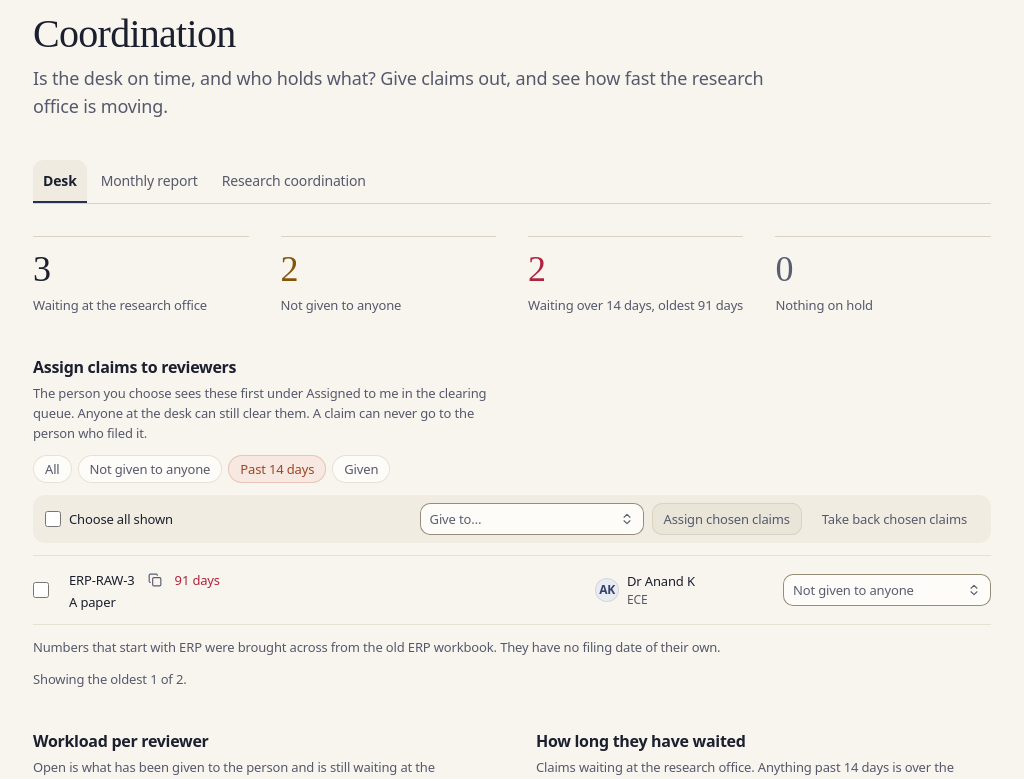
Test: coordination, desk › opens the list a figure pointed at, and names the count on the button
Expected: the text "ERP-RAW-3" is shown, [69,571,135,589]
Expected: the button "Assign chosen claims" is disabled, [652,503,802,535]
Click the checkbox named "Choose ERP-RAW-3". click: (41, 590)
box: [33,582,49,598]
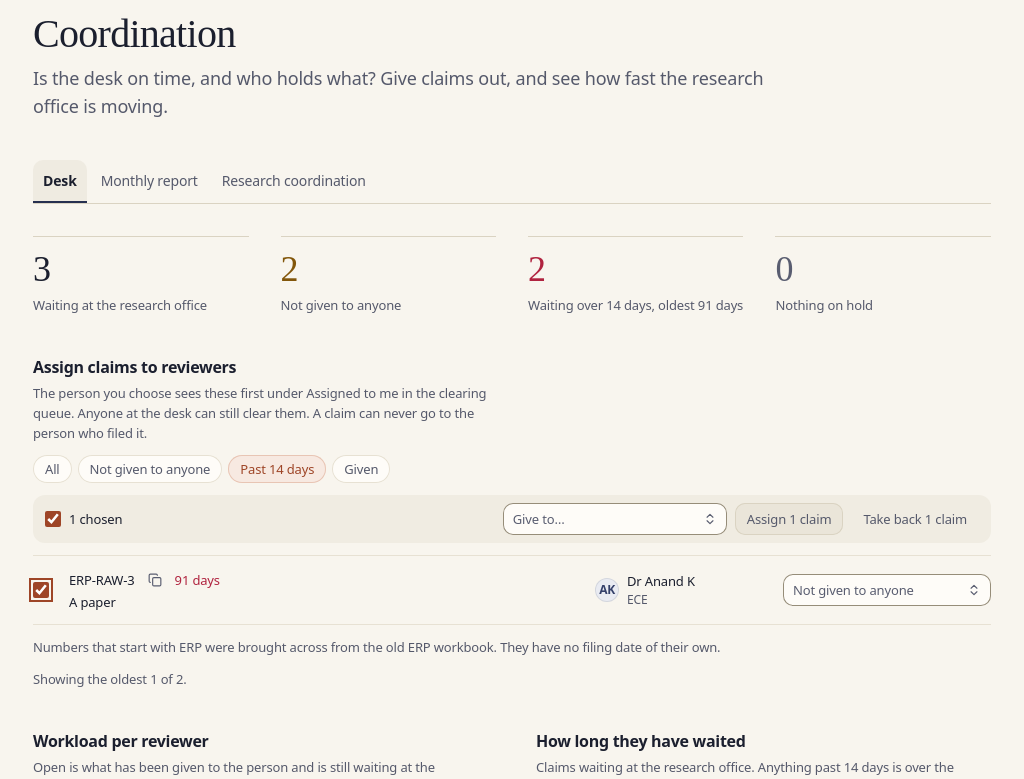
Expected: the button "Take back 1 claim" is enabled, [851,503,979,535]
